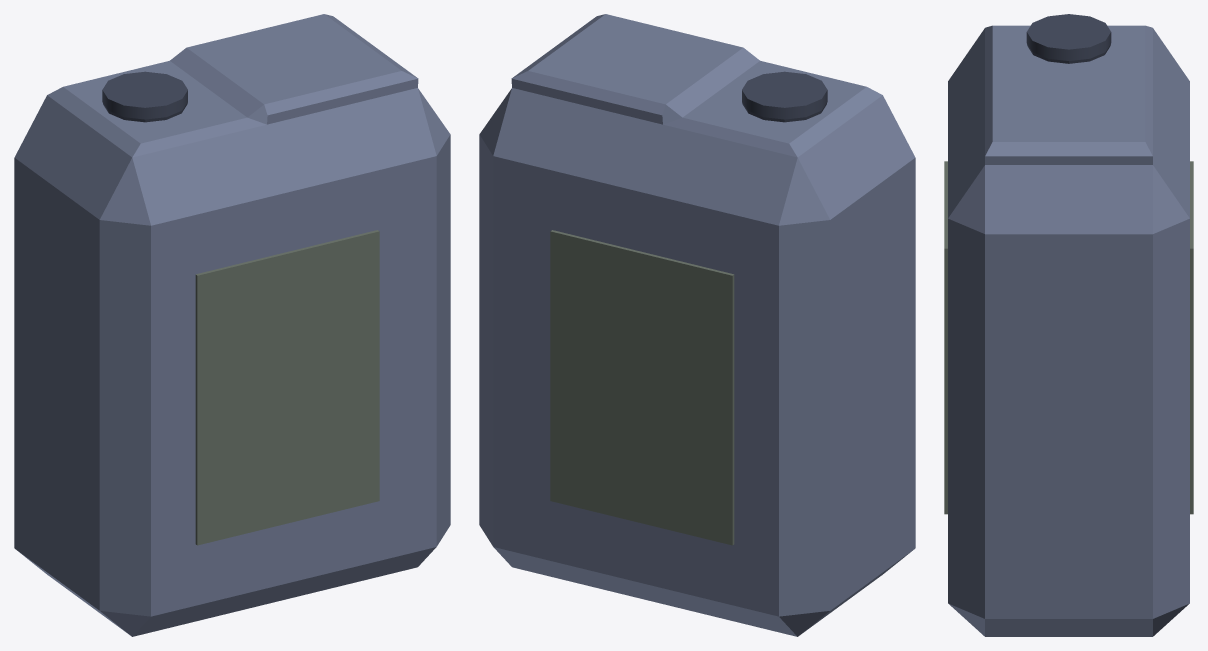
Rendered from SM_container_fluid_03.fbx.
3 renders of one model, left to right at view 1: azimuth 30°, elevation 25°; view 2: azimuth 150°, elevation 25°; view 3: azimuth 270°, elevation 25°, orthographic.
Visible parts, largest first — view 1: container_fluid_03; view 2: container_fluid_03; view 3: container_fluid_03.
Part boxes in pixels (box(x1,y1,x2,y2)): container_fluid_03: box(14, 14, 450, 636); container_fluid_03: box(479, 14, 915, 636); container_fluid_03: box(944, 14, 1193, 636).
Size of the model in its own units: 63.74 by 87.22 by 39.87.
